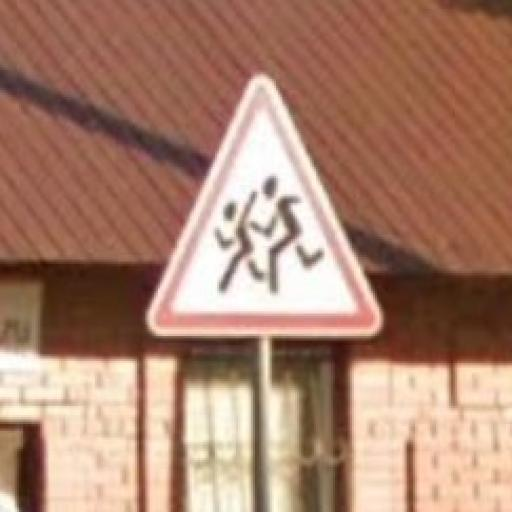traffic_sign: (145, 73, 385, 337)
